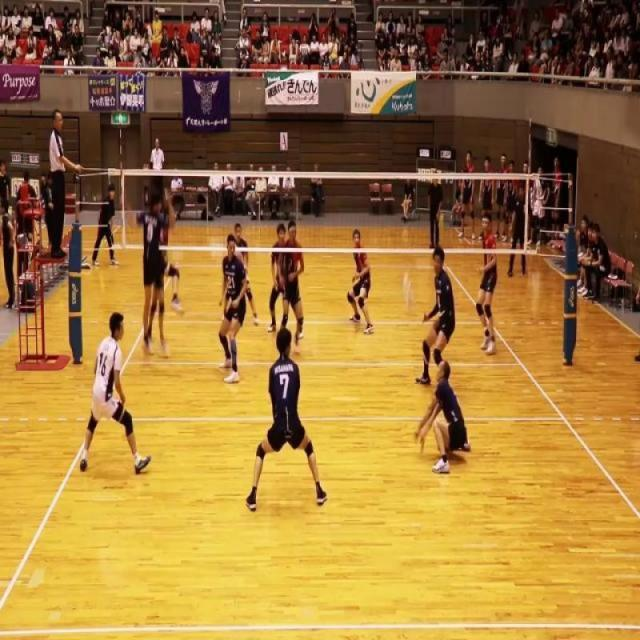volleyball: (401, 270, 417, 314)
